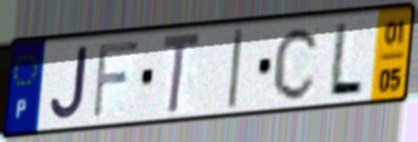C: (270, 23, 323, 103)
F: (90, 37, 143, 122)
I: (225, 25, 246, 113)
J: (47, 43, 90, 123)
L: (325, 20, 366, 97)
T: (160, 30, 204, 119)
